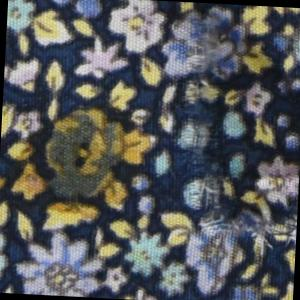Damage: (172, 3, 300, 261)
Oil Stain: (1, 94, 158, 224)
